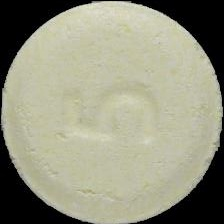0093-5245: (0, 0, 224, 224)
